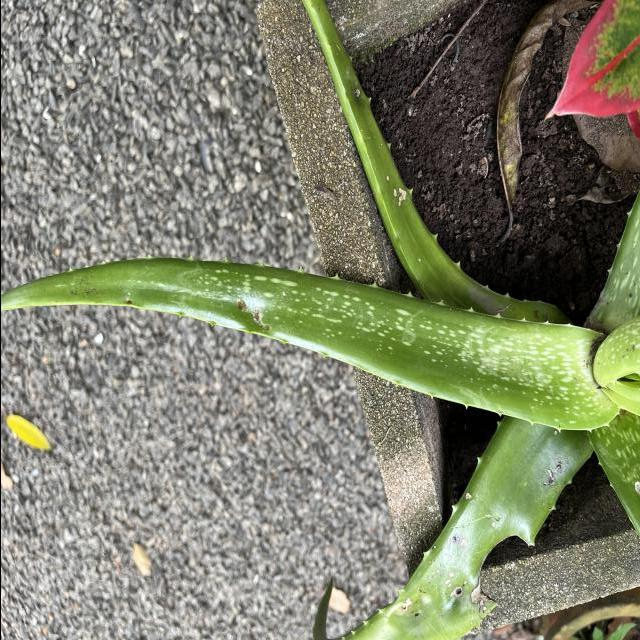Aloe vera: (0, 252, 618, 440)
